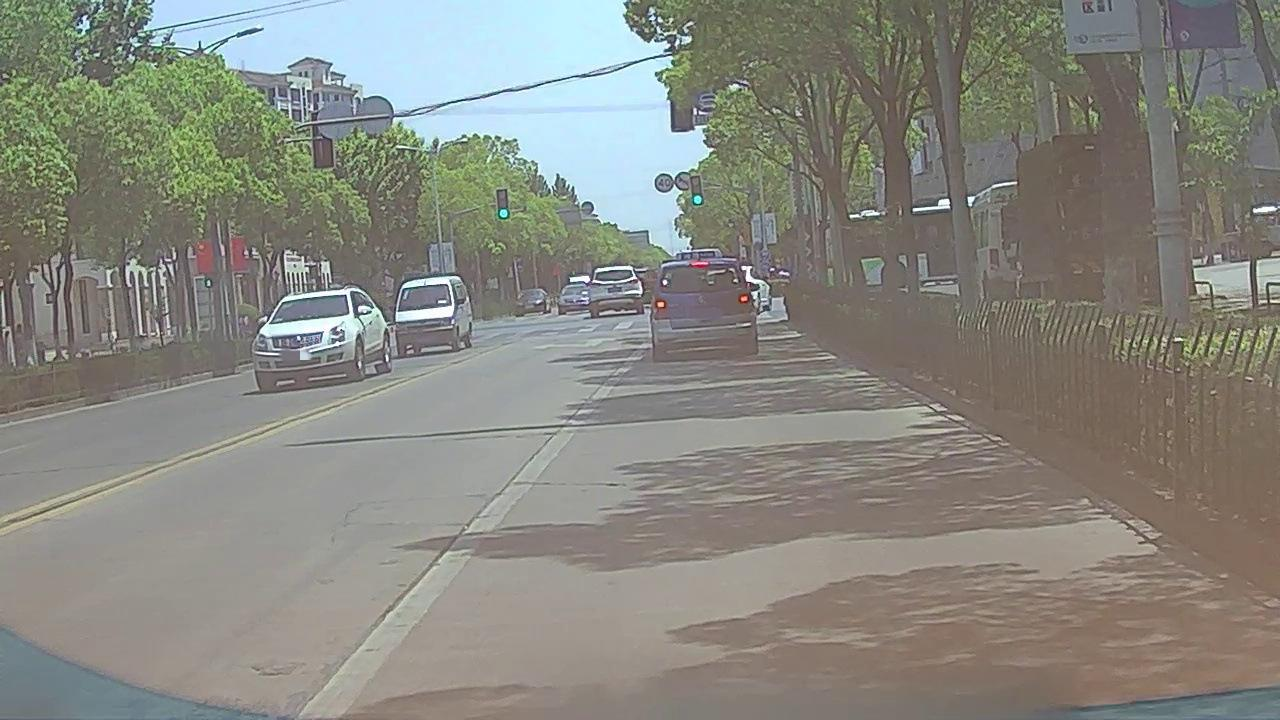traffic_light: (497, 189, 509, 218), (693, 177, 702, 205)
